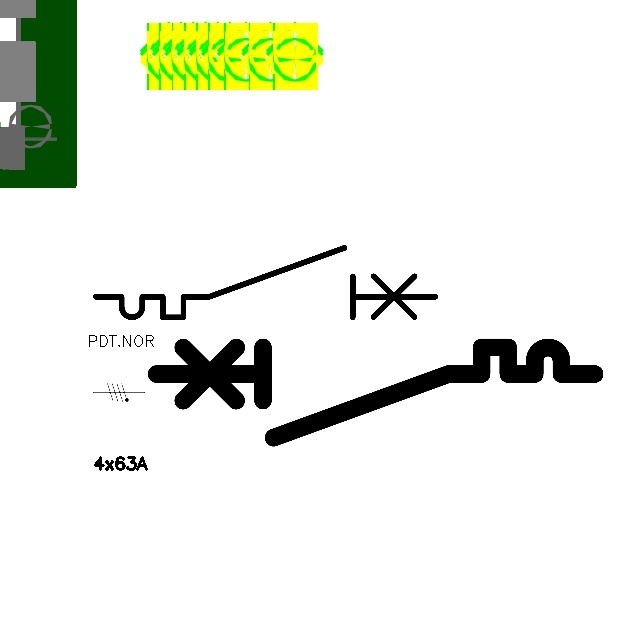interruptor_termomagnetico: (145, 336, 606, 449), (87, 239, 444, 326)
